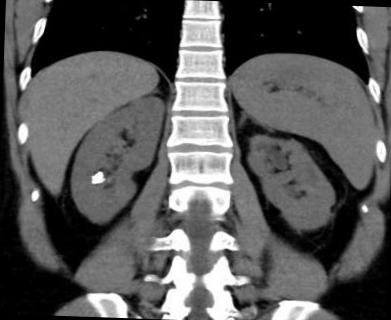Tas_Var: (90, 174, 104, 184), (97, 170, 104, 174), (102, 177, 106, 181)
